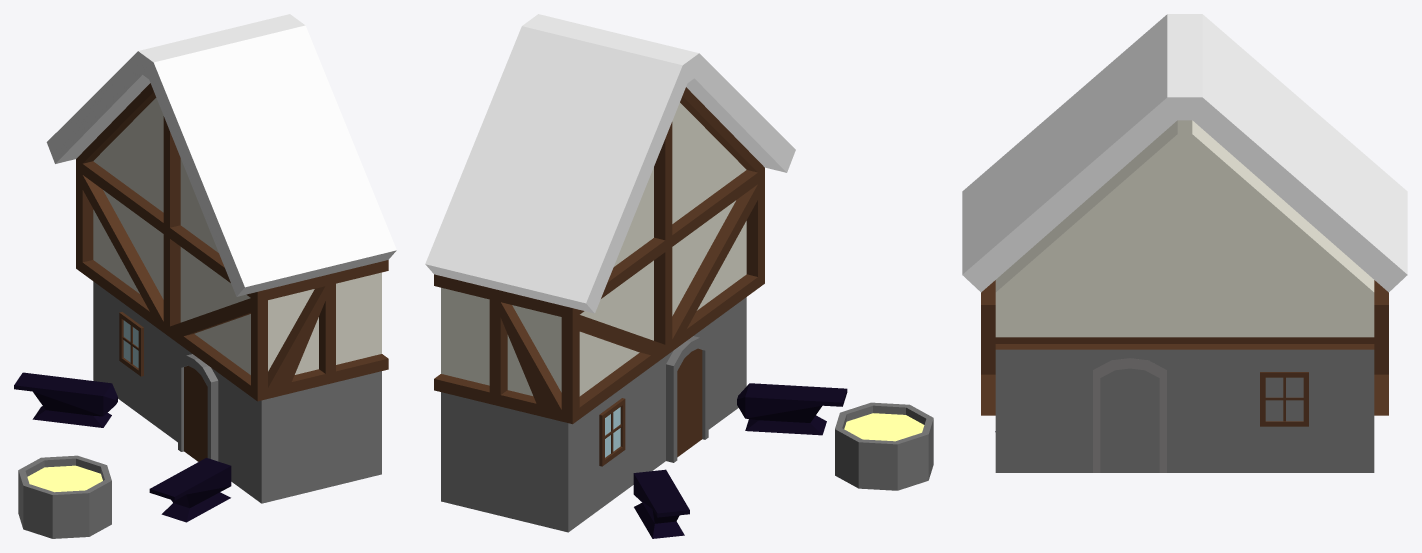
File: Blacksmith Cap New.fbx
3 views of the same model, side by side, from view 1: azimuth 30°, elevation 25°; view 2: azimuth 150°, elevation 25°; view 3: azimuth 270°, elevation 25° (orthographic). The views are drawn at different scales.
Visible parts, largest first — view 1: Blacksmith Cap; view 2: Blacksmith Cap; view 3: Blacksmith Cap.
Boxes of the visible parts, x1,y1,x2,y2 form: Blacksmith Cap: [14, 14, 396, 538]; Blacksmith Cap: [425, 14, 933, 538]; Blacksmith Cap: [962, 14, 1407, 472].
Size of the model in its own units: 77.68 by 89.67 by 81.96.
